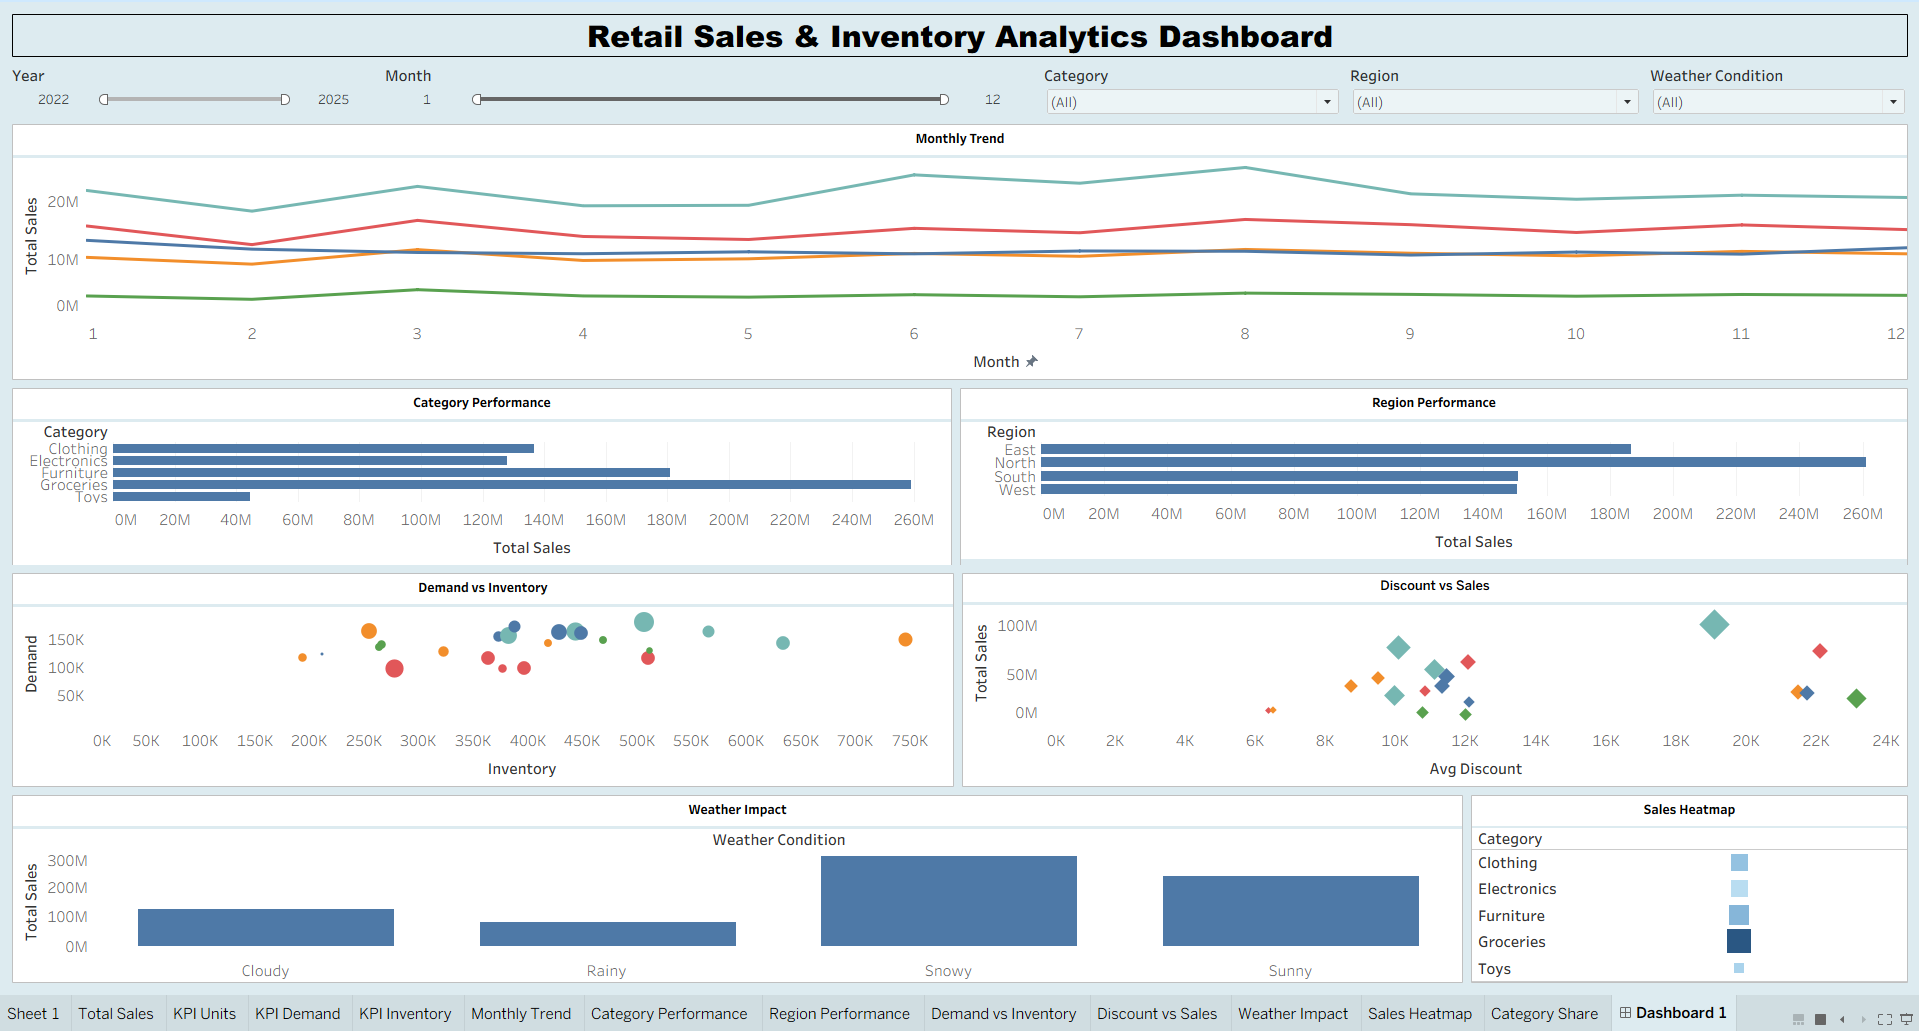

What the dashboard file says about the page in this screenshot:
{"tool":"tableau","page":{"name":"Dashboard 1","canvas":[1000,1000],"units":"permille","ordinal":0},"visuals":[{"type":"title","box":[4.9,10.7,990.2,68.3]},{"type":"filter","title":"Monthly Trend","param":"[federated.1kuqzqz1al52001euryha1sd6xyo].[none:Year:qk]","box":[4.9,79,229.1,79]},{"type":"filter","title":"Monthly Trend","param":"[federated.1kuqzqz1al52001euryha1sd6xyo].[none:Month:qk]","box":[234,79,225.5,79]},{"type":"filter","title":"Monthly Trend","param":"[federated.1kuqzqz1al52001euryha1sd6xyo].[none:Category:nk]","box":[459.5,79,188,79]},{"type":"filter","title":"Monthly Trend","param":"[federated.1kuqzqz1al52001euryha1sd6xyo].[Action (Region)]","box":[647.4,79,184.3,79]},{"type":"filter","title":"Monthly Trend","param":"[federated.1kuqzqz1al52001euryha1sd6xyo].[Action (Weather Condition)]","box":[831.7,79,163.4,79]},{"type":"worksheet","title":"Monthly Trend","mark":"Automatic","rows":["total_sales"],"cols":["Month"],"box":[4.9,158,990.2,252.9]},{"type":"worksheet","title":"Category Performance","mark":"Automatic","rows":["Category"],"cols":["total_sales"],"box":[4.9,410.9,493.3,178.1]},{"type":"worksheet","title":"Region Performance","mark":"Automatic","rows":["Region"],"cols":["total_sales"],"box":[498.2,410.9,496.9,178.1]},{"type":"worksheet","title":"Demand vs Inventory","mark":"Circle","rows":["avg_demand"],"cols":["avg_inventory"],"box":[4.9,589,493.9,212.8]},{"type":"worksheet","title":"Discount vs Sales","mark":"Automatic","rows":["total_sales"],"cols":["avg_discount"],"box":[498.8,589,496.3,212.8]},{"type":"worksheet","title":"Weather Impact","mark":"Automatic","rows":["total_sales"],"cols":["Weather_Condition"],"box":[4.9,801.8,752.6,187.5]},{"type":"worksheet","title":"Sales Heatmap","mark":"Automatic","rows":["Category"],"box":[757.5,801.8,237.6,187.5]}]}

Visuals, with their boxes on the dashboard's canvas, which has no fixed pixel size, in thousandths of its width and height (x1, y1, x2, y2). These are canvas units, not pixel positions in the 1919x1031 screenshot, which may show the page scaled, cropped or inside an application window:
title: bbox=[5, 11, 995, 79]
"Monthly Trend" filter: bbox=[5, 79, 234, 158]
"Monthly Trend" filter: bbox=[234, 79, 460, 158]
"Monthly Trend" filter: bbox=[460, 79, 648, 158]
"Monthly Trend" filter: bbox=[647, 79, 832, 158]
"Monthly Trend" filter: bbox=[832, 79, 995, 158]
"Monthly Trend" worksheet: bbox=[5, 158, 995, 411]
"Category Performance" worksheet: bbox=[5, 411, 498, 589]
"Region Performance" worksheet: bbox=[498, 411, 995, 589]
"Demand vs Inventory" worksheet (Circle marks): bbox=[5, 589, 499, 802]
"Discount vs Sales" worksheet: bbox=[499, 589, 995, 802]
"Weather Impact" worksheet: bbox=[5, 802, 758, 989]
"Sales Heatmap" worksheet: bbox=[758, 802, 995, 989]
